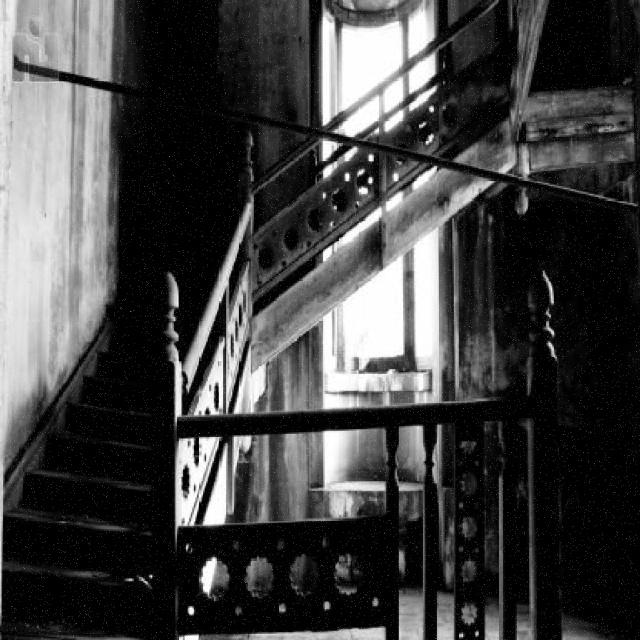stair: (0, 287, 160, 638)
